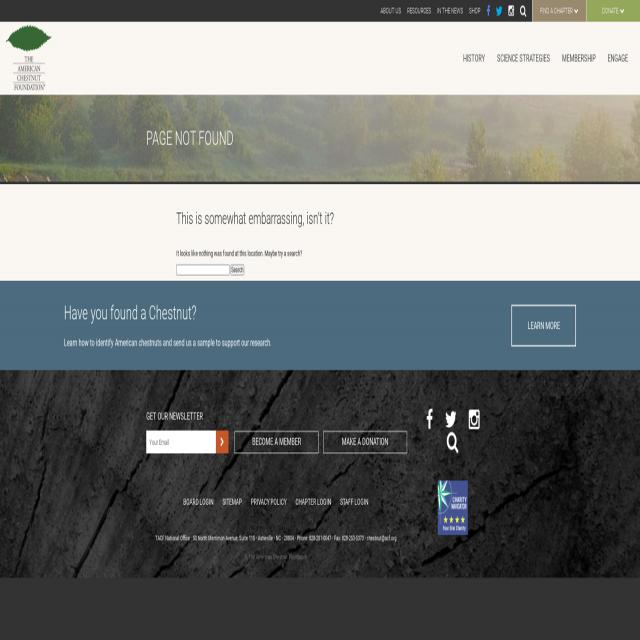button: (491, 22, 556, 94), (556, 22, 602, 94), (6, 24, 52, 90), (601, 21, 640, 93), (512, 305, 576, 346), (457, 22, 491, 94), (234, 431, 318, 453), (323, 431, 407, 453), (438, 481, 468, 535), (532, 0, 586, 22), (587, 0, 640, 22), (434, 0, 466, 22), (404, 0, 434, 22), (378, 0, 404, 22), (466, 404, 483, 436), (444, 430, 462, 458), (442, 404, 459, 433), (424, 404, 437, 435), (466, 0, 484, 22), (216, 431, 228, 454), (505, 0, 517, 22), (517, 0, 529, 22), (493, 1, 505, 22), (484, 1, 493, 21), (230, 264, 244, 276)
field: (146, 431, 216, 453), (177, 264, 230, 276)
